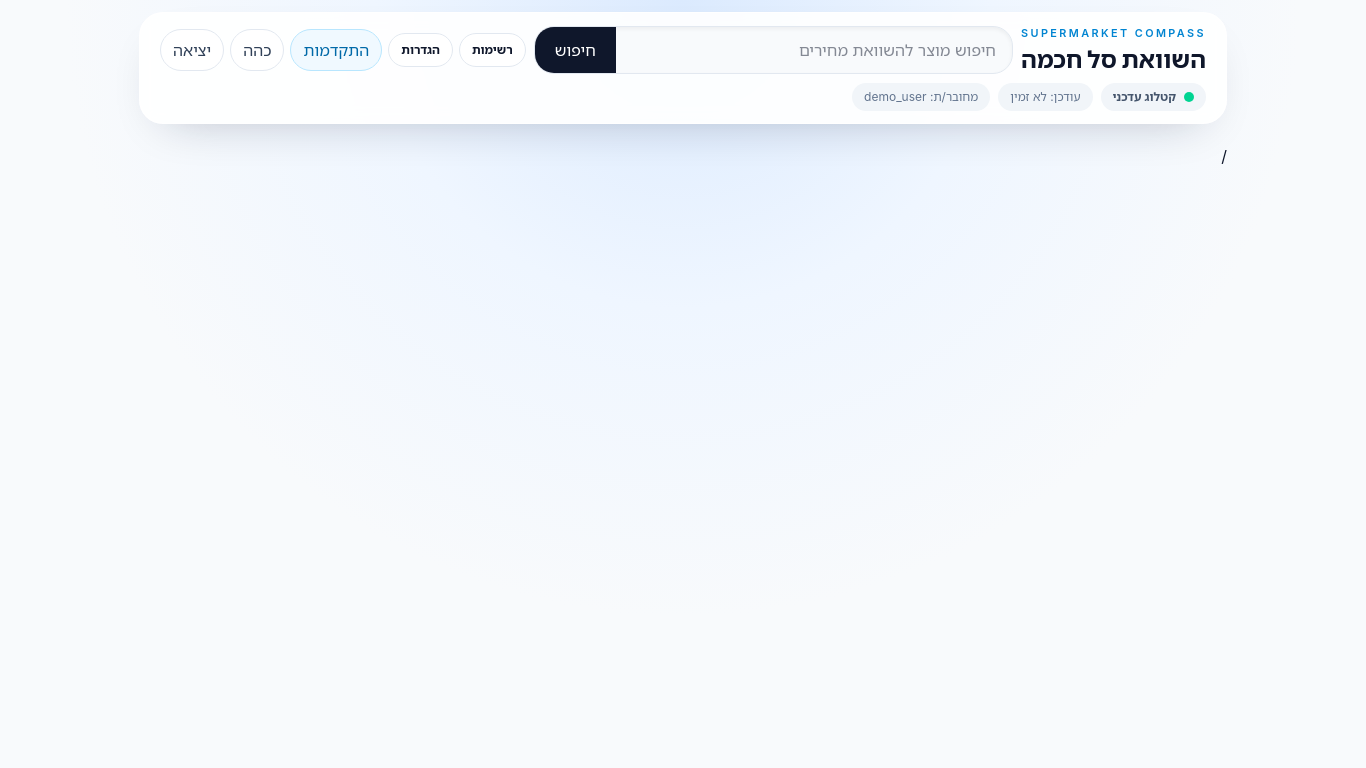
it: AppShell › opens a real-time refresh progress popup from refresh click
Click the button named "הצג התקדמות" at (336, 50), box [290,29,382,71]
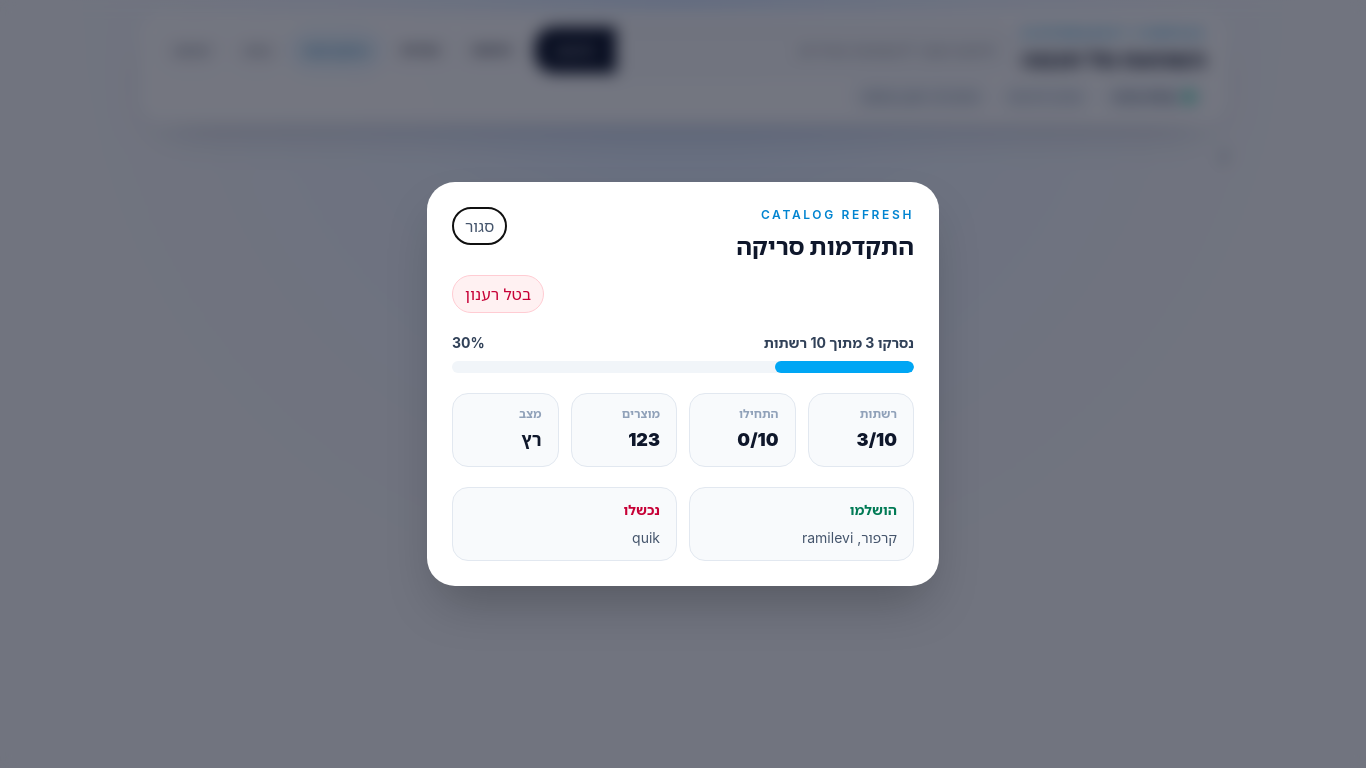
Now the dialog "התקדמות סריקה" is shown, box [427,182,939,586]
Now the text "30%" is shown, box [452,333,485,353]
Now the text "123" is shown, box [628,429,660,450]
